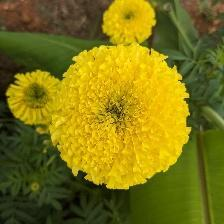marigold: (54, 45, 194, 195)
